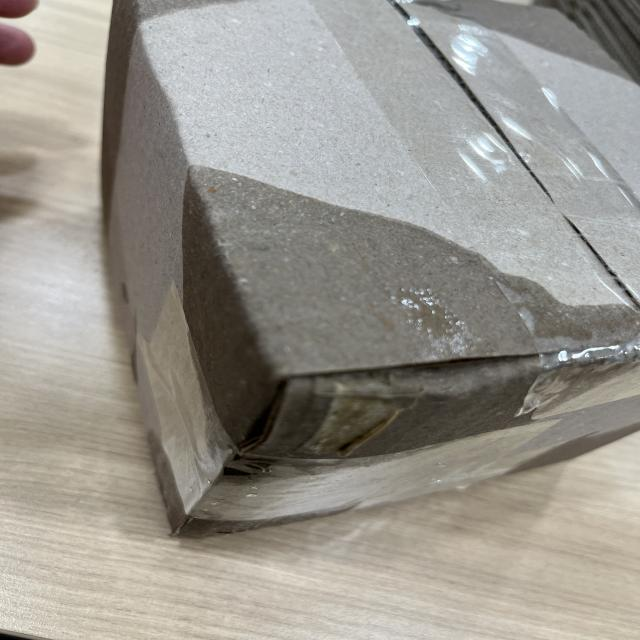wet: (185, 168, 639, 526)
